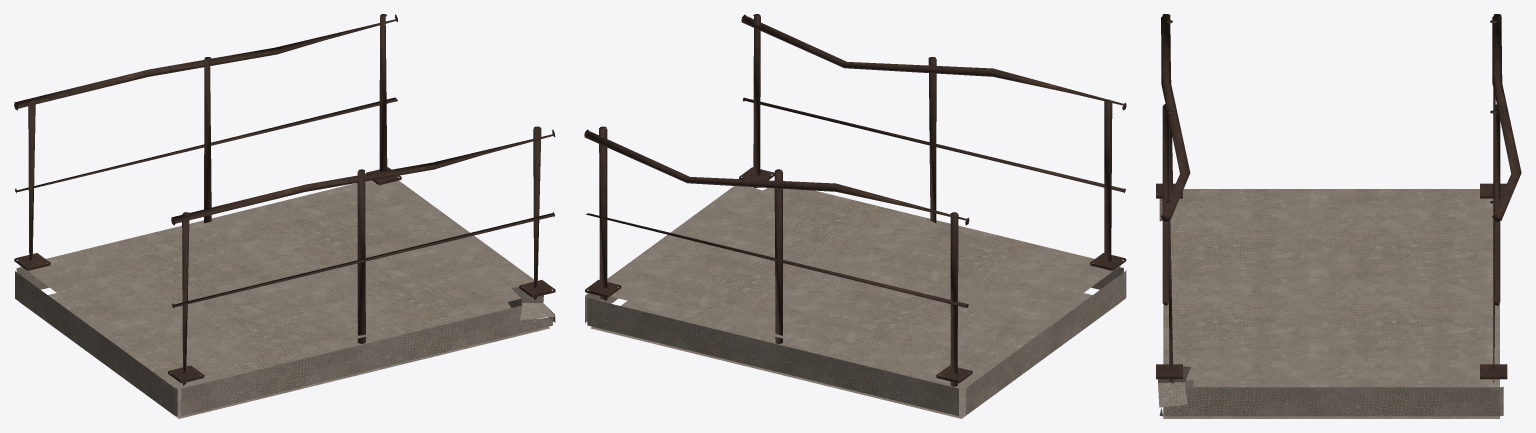
Rendered from lod2_NOT_APPROVED.glb.
3 renders of one model, left to right at view 1: azimuth 30°, elevation 25°; view 2: azimuth 150°, elevation 25°; view 3: azimuth 270°, elevation 25°, orthographic. The views are drawn at different scales.
Parts seen in each view (by area): view 1: f3_weathered_concrete_surface, f3_oxidized_iron_surface; view 2: f3_weathered_concrete_surface, f3_oxidized_iron_surface; view 3: f3_weathered_concrete_surface, f3_oxidized_iron_surface.
Boxes of the visible parts, x1=… form: f3_weathered_concrete_surface: x1=15, y1=180, x2=555, y2=418; f3_oxidized_iron_surface: x1=14, y1=14, x2=555, y2=385; f3_weathered_concrete_surface: x1=585, y1=186, x2=1126, y2=418; f3_oxidized_iron_surface: x1=584, y1=14, x2=1126, y2=386; f3_weathered_concrete_surface: x1=1158, y1=189, x2=1503, y2=418; f3_oxidized_iron_surface: x1=1156, y1=14, x2=1521, y2=383.
Size of the model in its own units: 2.61 by 1.33 by 2.06.
Materials: 2 (2 with a texture image).
